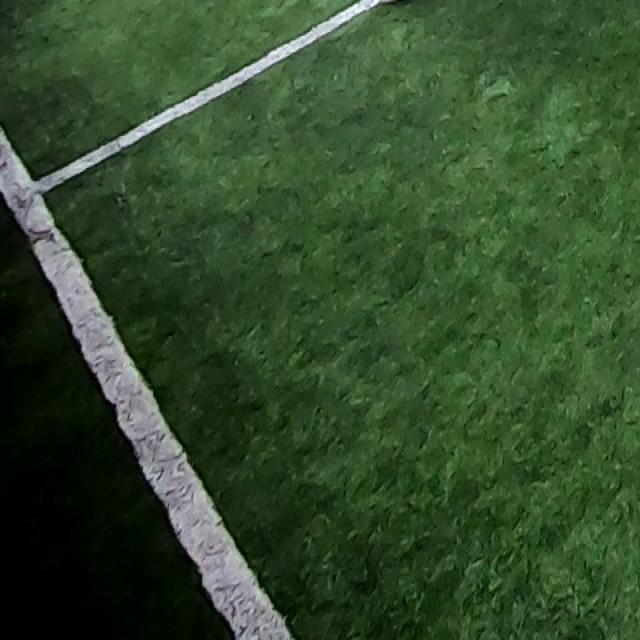BALON: (369, 0, 412, 3)
